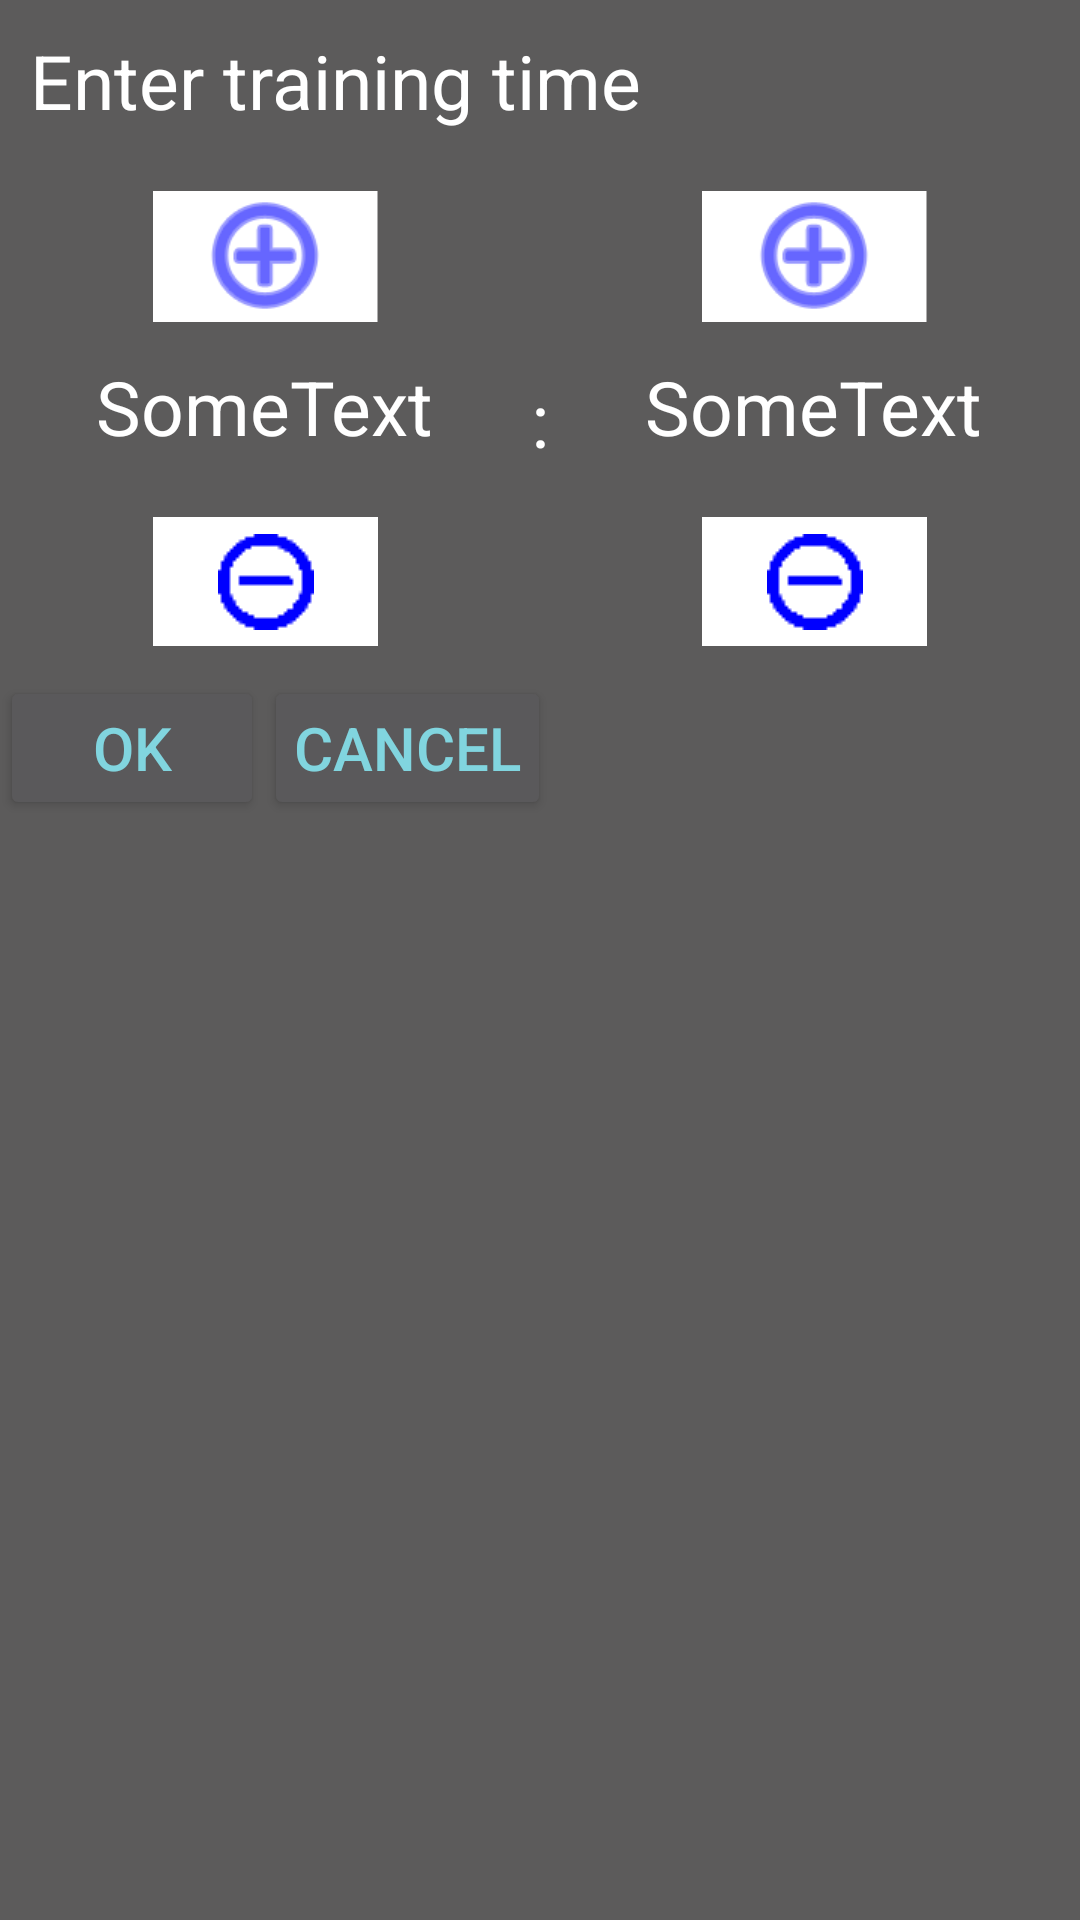

Point at icon controls on the screen. Image size 1080 x 1920, points as (x=x, y=y).
minus: (x=265, y=581), (x=814, y=581)
